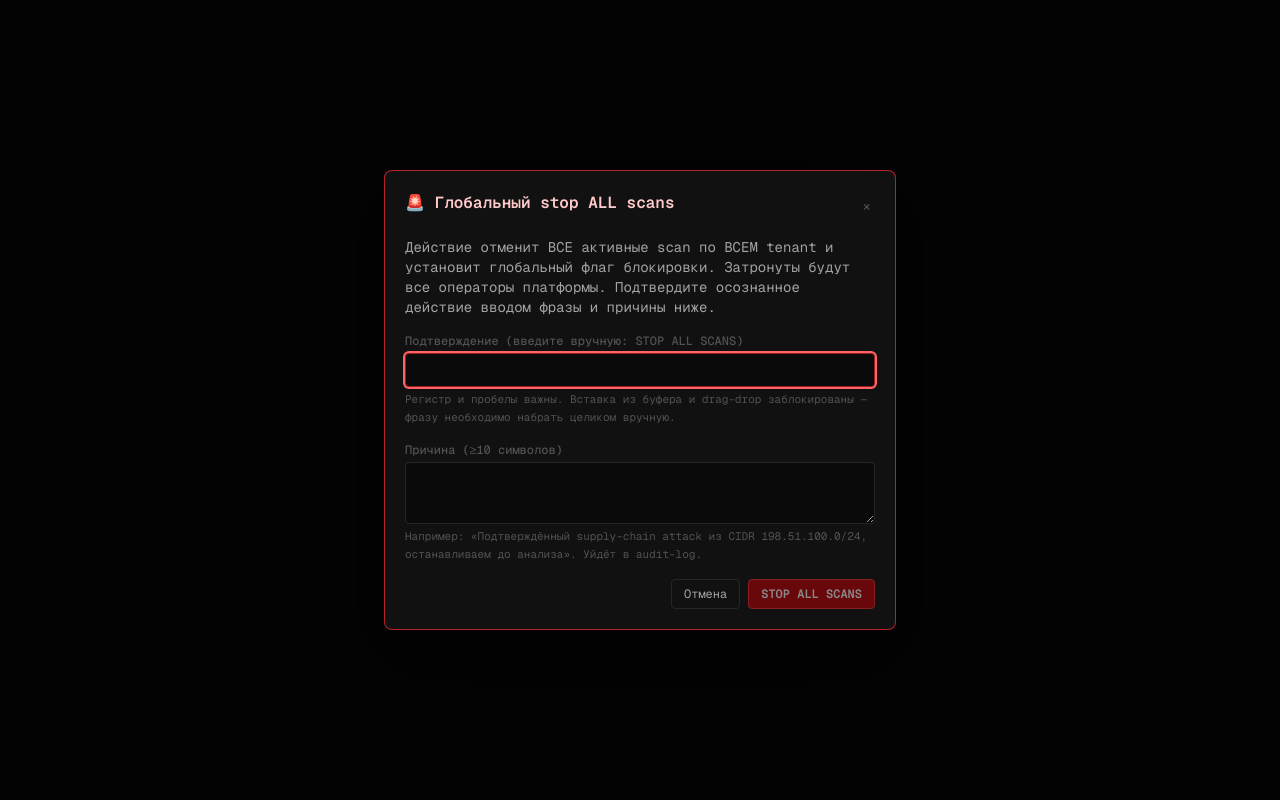
it: GlobalKillSwitchDialog › submit disabled until typed phrase matches AND reason ≥10 chars
Expected: the button with test id "kill-switch-dialog-confirm" is disabled, 748,579 -> 875,609
Phrase only — still disabled.
In the field with test id "kill-switch-dialog-phrase": (640,370) 405,353 -> 875,387, type "STOP ALL SCANS"
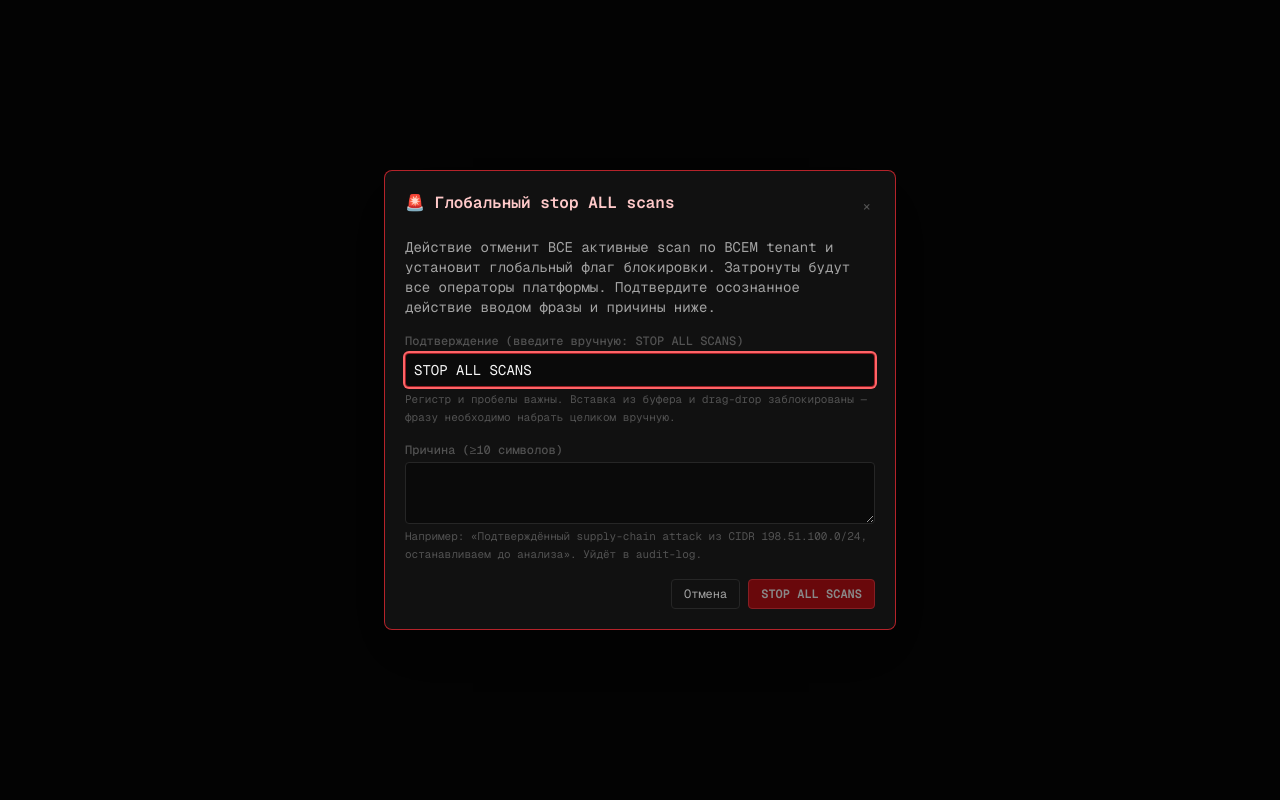
Expected: the button with test id "kill-switch-dialog-confirm" is disabled, 748,579 -> 875,609
Phrase + short reason — still disabled.
In the text box with test id "kill-switch-dialog-reason": (640,493) 405,462 -> 875,524, type "short"
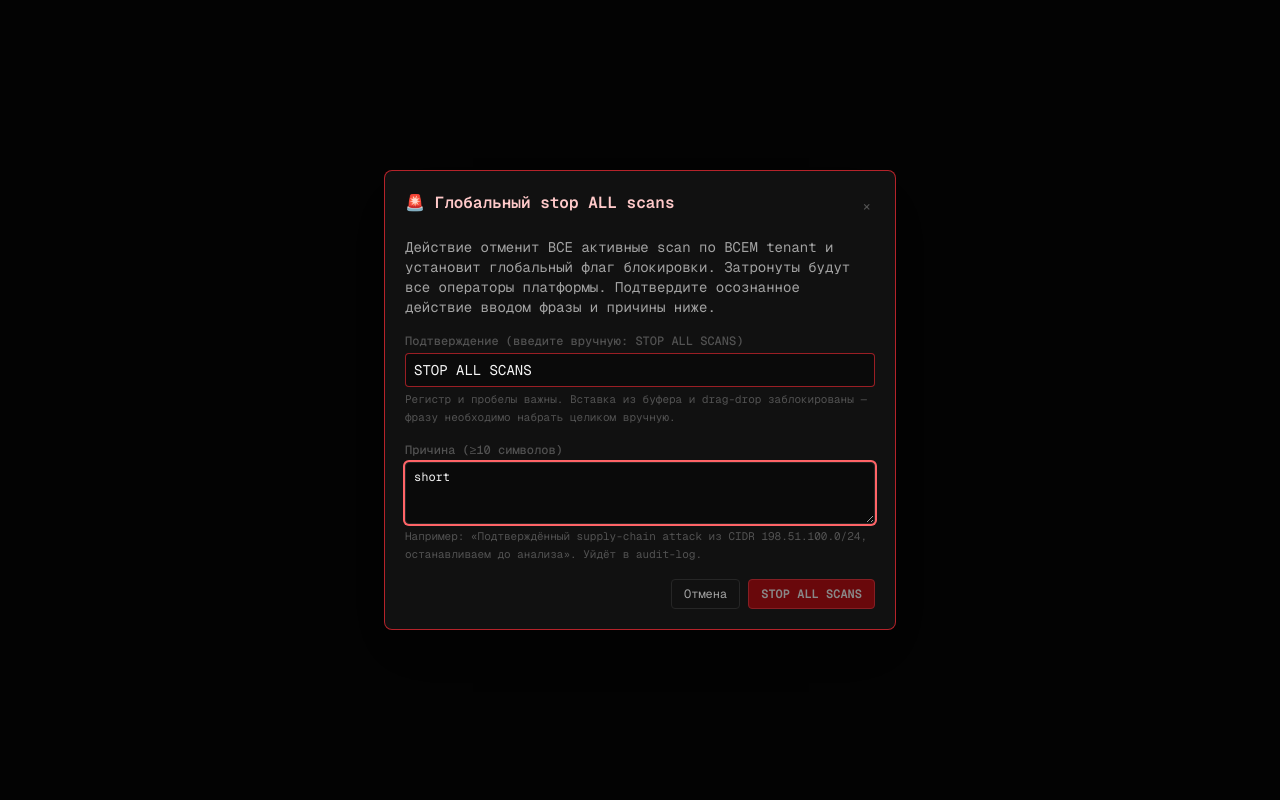
Expected: the button with test id "kill-switch-dialog-confirm" is disabled, 748,579 -> 875,609
Add the rest of the reason — finally enabled.
In the text box with test id "kill-switch-dialog-reason": (640,493) 405,462 -> 875,524, type "-but-now-long-enough-to-pass"
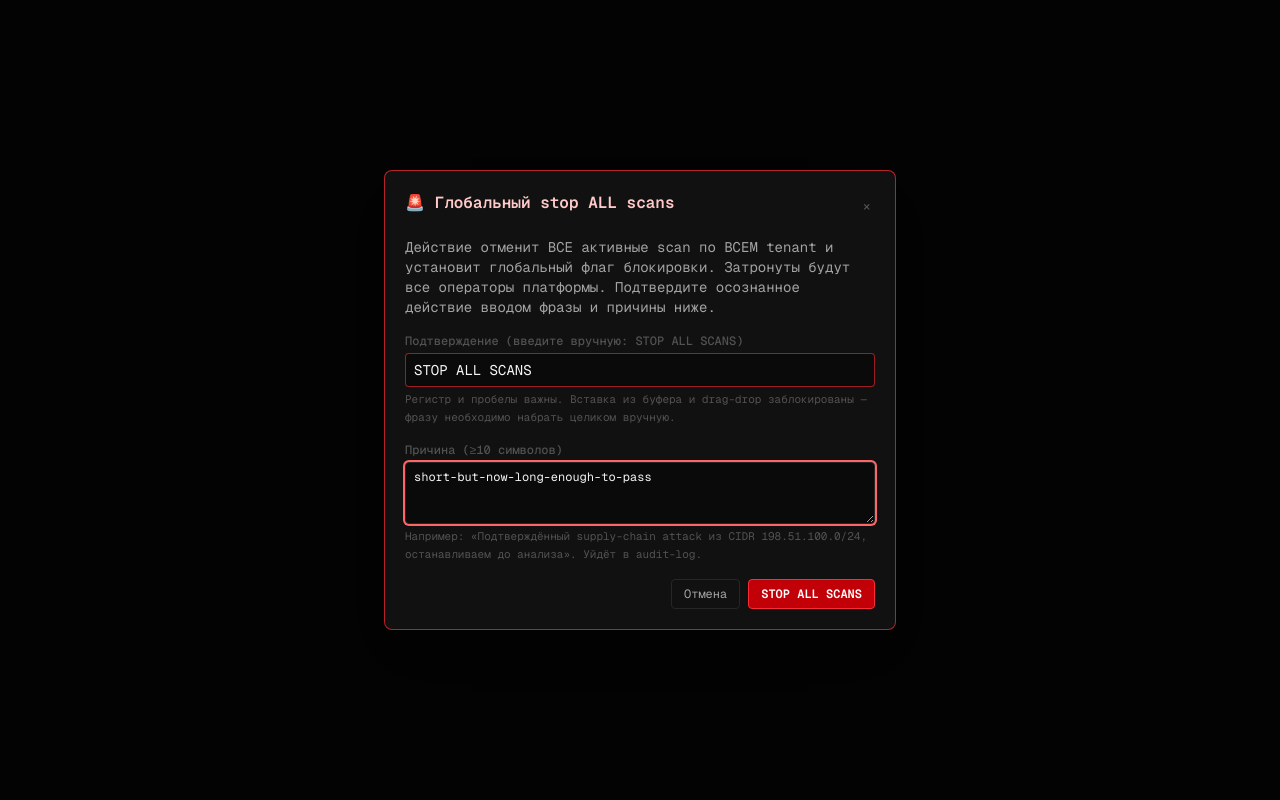
Expected: the button with test id "kill-switch-dialog-confirm" is enabled, 748,579 -> 875,609
